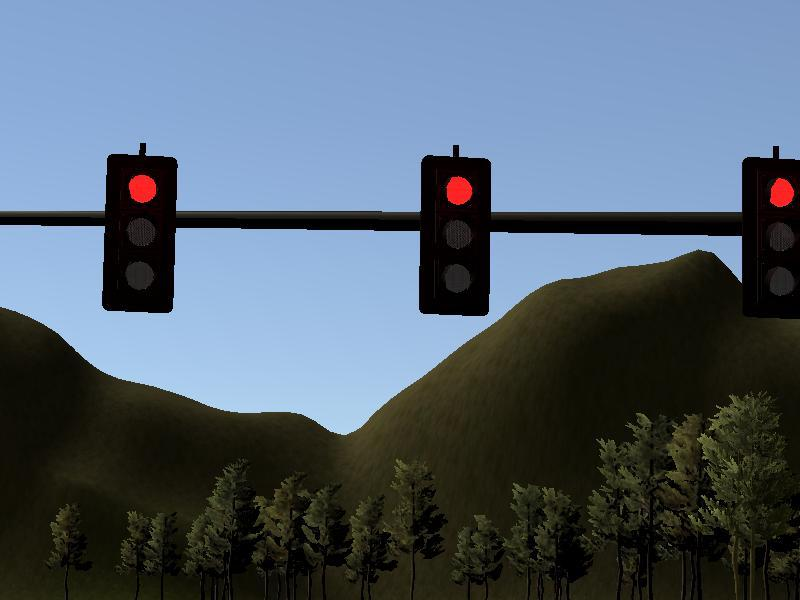Red: (422, 162, 488, 313), (108, 156, 170, 313), (746, 160, 800, 311)
